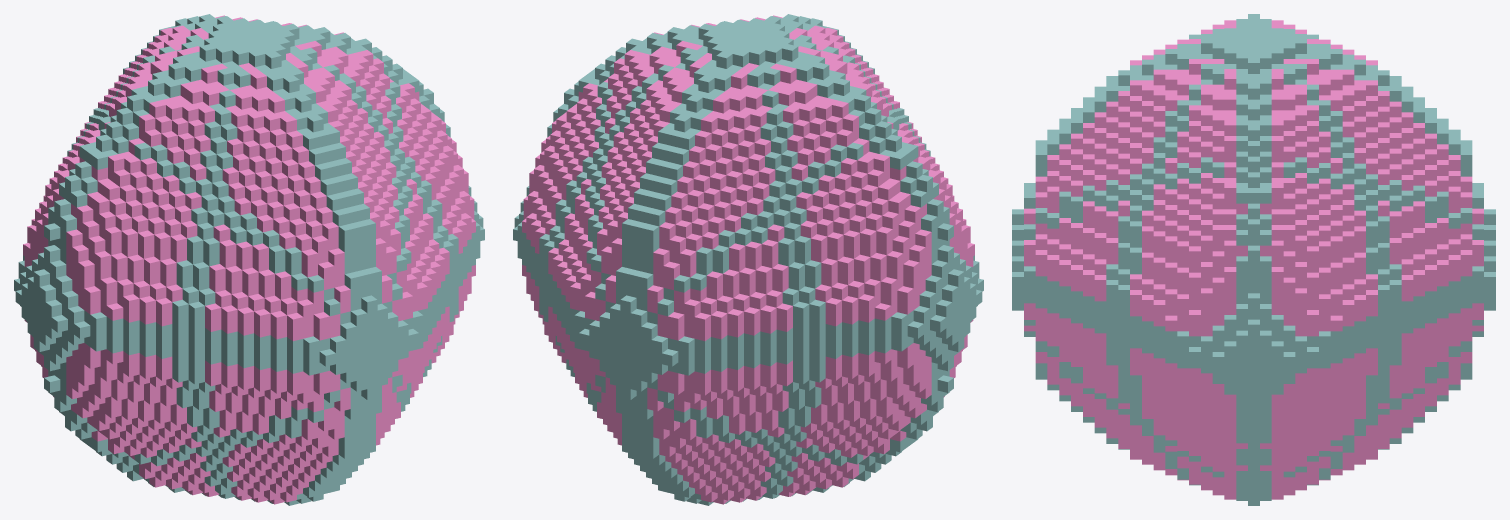
The model's file is boll.obj.
3 views of the same model, side by side, from view 1: azimuth 30°, elevation 25°; view 2: azimuth 150°, elevation 25°; view 3: azimuth 270°, elevation 25° (orthographic).
Size of the model in its own units: 41 by 41 by 41.
